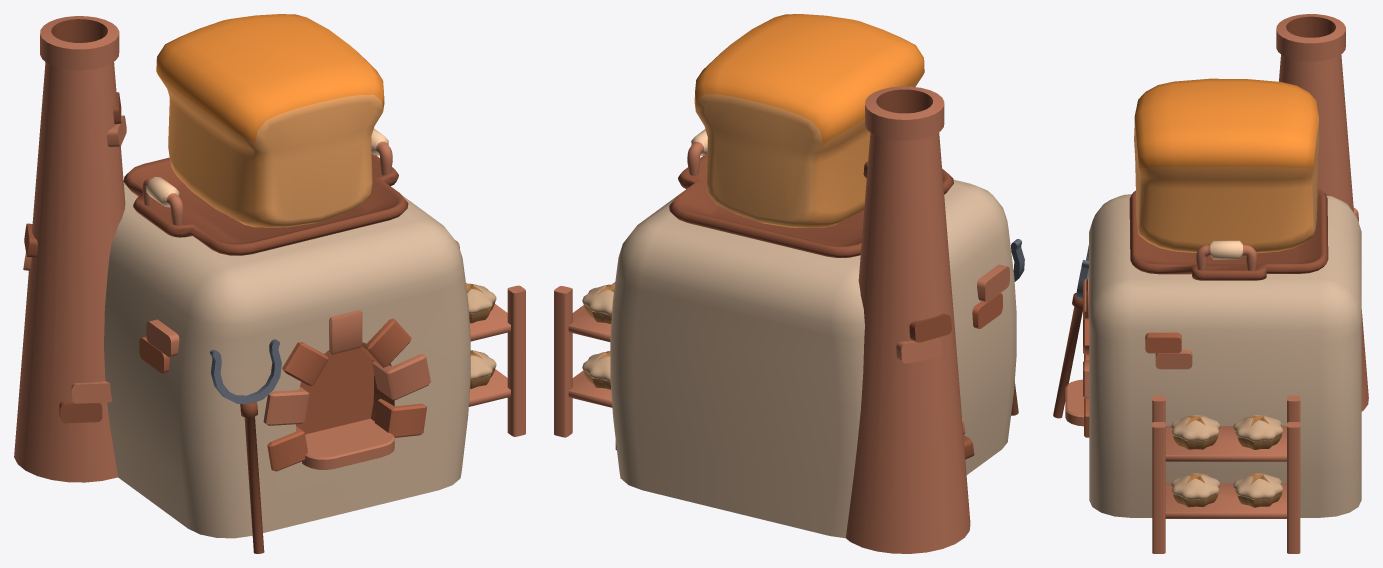
The model's file is Stove.fbx.
The picture shows the model from 3 angles, left to right: view 1: azimuth 30°, elevation 25°; view 2: azimuth 150°, elevation 25°; view 3: azimuth 270°, elevation 25°; orthographic projection. The views are drawn at different scales.
Visible parts, largest first — view 1: Stove, Stove.002, Stove.005, Stove.001, Stove.004, Stove.003, Stove.007; view 2: Stove, Stove.002, Stove.005, Stove.001, Stove.006, Stove.008, Stove.004; view 3: Stove, Stove.002, Stove.001, Stove.005, Stove.004, Stove.003, Stove.006, Stove.008, Stove.007.
Boxes of the visible parts, bbox=[...] form: Stove: bbox=[14, 16, 470, 538]; Stove.002: bbox=[156, 14, 384, 227]; Stove.005: bbox=[123, 128, 408, 255]; Stove.001: bbox=[466, 283, 525, 436]; Stove.004: bbox=[210, 339, 281, 553]; Stove.003: bbox=[466, 283, 496, 323]; Stove.007: bbox=[470, 350, 496, 388]; Stove: bbox=[610, 86, 1016, 553]; Stove.002: bbox=[694, 14, 924, 227]; Stove.005: bbox=[669, 129, 953, 257]; Stove.001: bbox=[554, 282, 616, 450]; Stove.006: bbox=[582, 284, 614, 323]; Stove.008: bbox=[582, 351, 610, 389]; Stove.004: bbox=[1011, 239, 1024, 415]; Stove: bbox=[1065, 14, 1368, 517]; Stove.002: bbox=[1134, 78, 1319, 253]; Stove.001: bbox=[1152, 395, 1300, 553]; Stove.005: bbox=[1129, 188, 1328, 280]; Stove.004: bbox=[1053, 245, 1088, 418]; Stove.003: bbox=[1171, 415, 1220, 449]; Stove.006: bbox=[1233, 415, 1283, 449]; Stove.008: bbox=[1233, 473, 1282, 507]; Stove.007: bbox=[1171, 473, 1220, 507].
Size of the model in its own units: 10.87 by 10.68 by 8.16.
